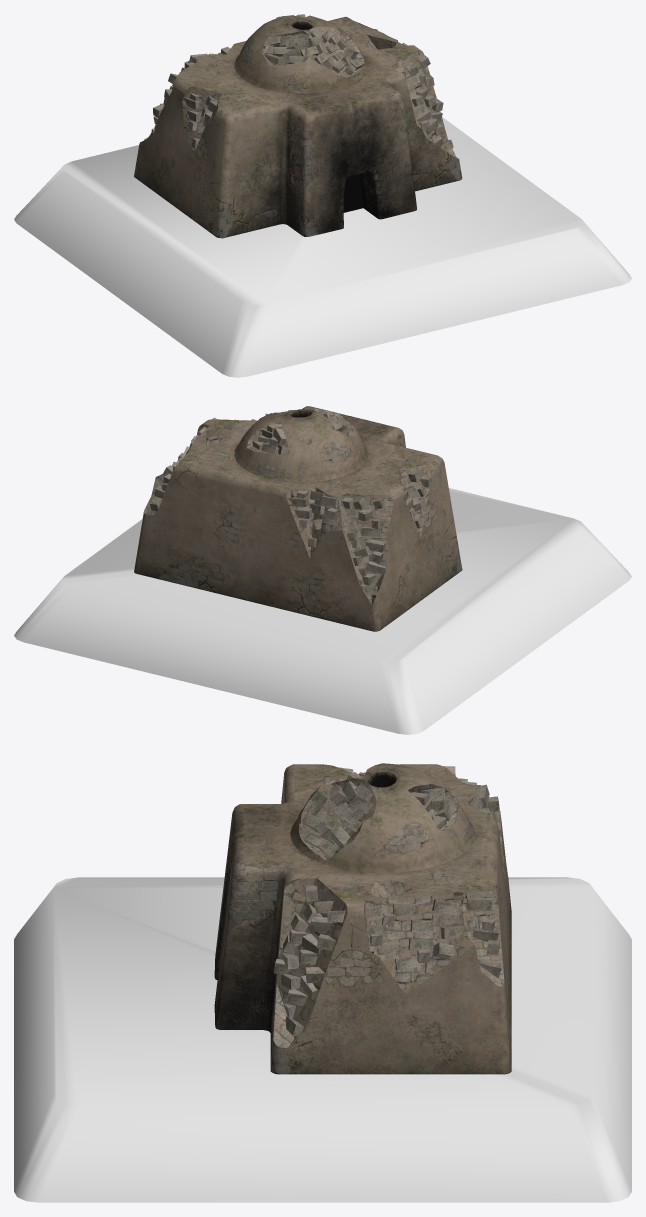
File: Limestone Burner Destruction Stage 2.fbx
3 views of the same model, one above another, from view 1: azimuth 30°, elevation 25°; view 2: azimuth 150°, elevation 25°; view 3: azimuth 270°, elevation 25° (orthographic). The views are drawn at different scales.
Visible parts, largest first — view 1: Limestone_Burner_Base_Destruction_S2, Limestone_Burner_Destruction_S2; view 2: Limestone_Burner_Base_Destruction_S2, Limestone_Burner_Destruction_S2; view 3: Limestone_Burner_Base_Destruction_S2, Limestone_Burner_Destruction_S2.
Part boxes in pixels (<box>): Limestone_Burner_Base_Destruction_S2: <box>14,117,631,377</box>; Limestone_Burner_Destruction_S2: <box>134,14,462,238</box>; Limestone_Burner_Base_Destruction_S2: <box>14,488,631,734</box>; Limestone_Burner_Destruction_S2: <box>134,406,462,631</box>; Limestone_Burner_Base_Destruction_S2: <box>14,877,631,1202</box>; Limestone_Burner_Destruction_S2: <box>214,763,511,1074</box>.
Size of the model in its own units: 796 by 391 by 758.
